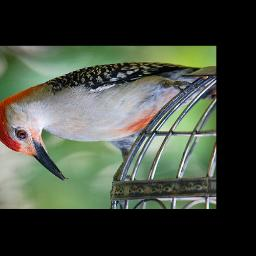Woodpecker: (0, 61, 216, 180)
